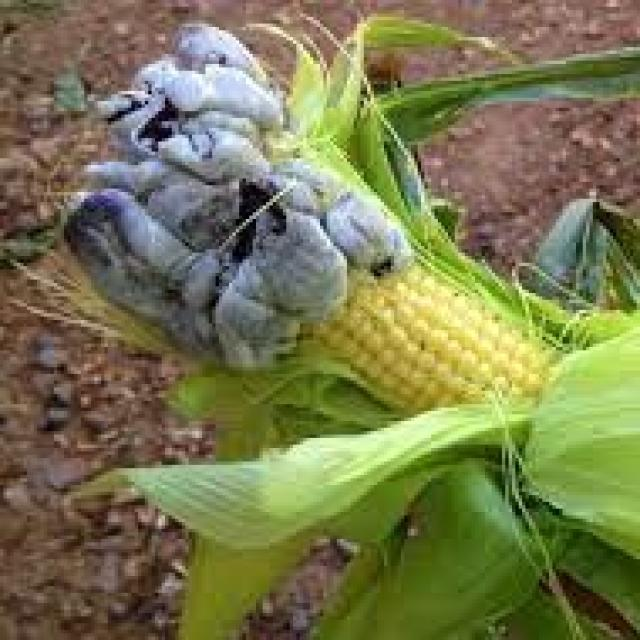Leaf_Scald: (26, 24, 506, 447)
